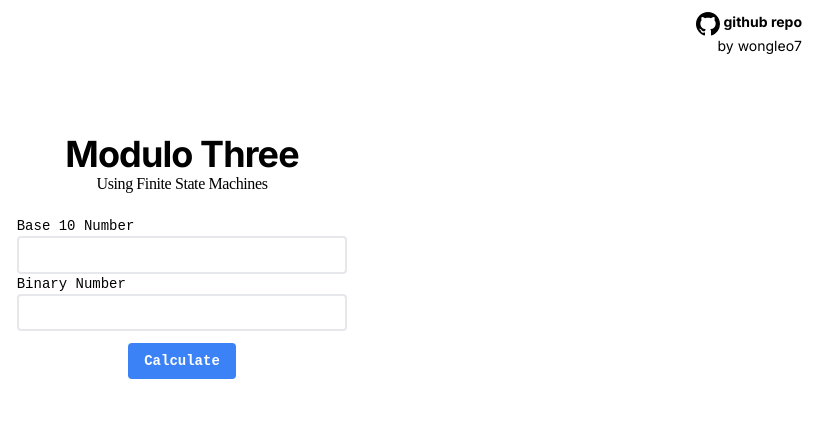
Test: tests invalid number validation on binary
Type "112" into the number field with id "binary-input" at (183, 313), box [17,294,348,332]
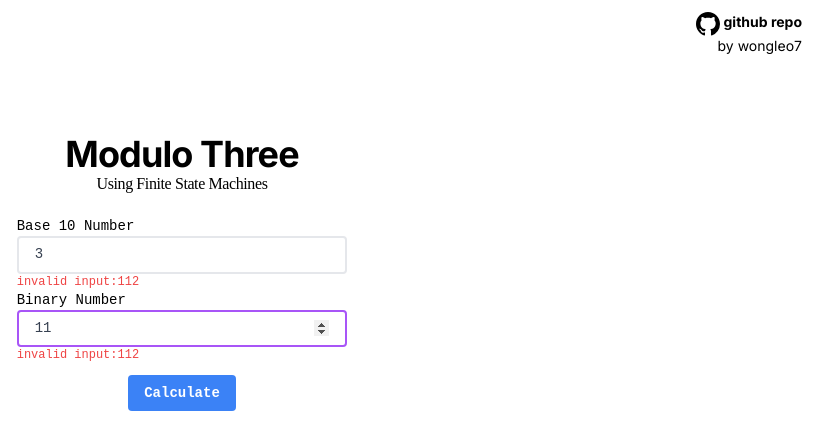
Expected: the text with id "error-binary-input" reads "invalid input:112", [17,348,139,362]
